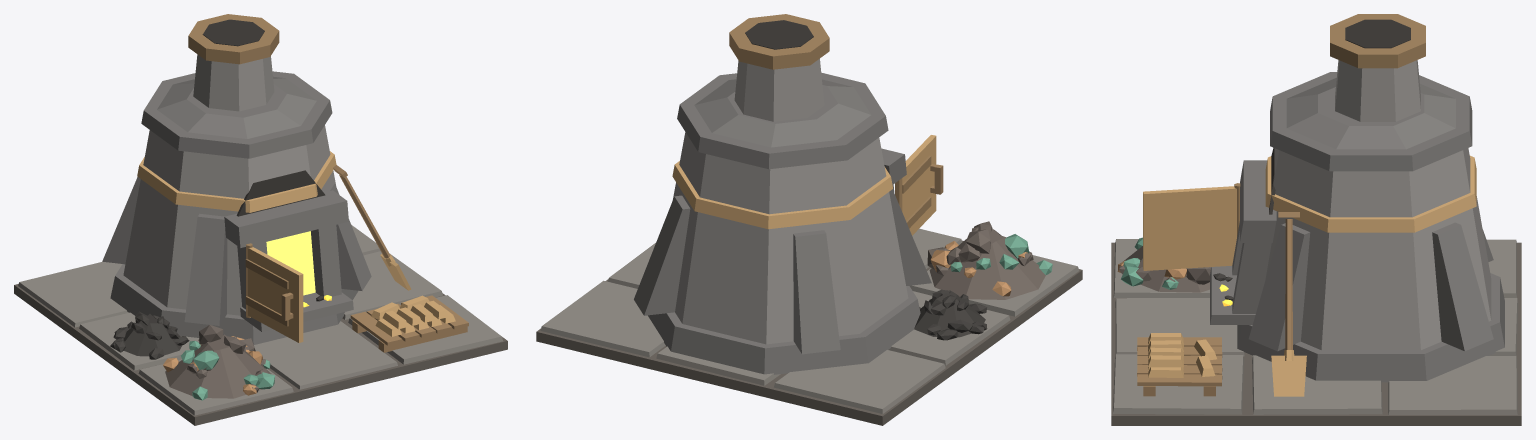
Rendered from smelter.glb.
3 renders of one model, left to right at view 1: azimuth 30°, elevation 25°; view 2: azimuth 150°, elevation 25°; view 3: azimuth 270°, elevation 25°, orthographic. The views are drawn at different scales.
Parts seen in each view (by area): view 1: floor, furnace_body, furnace_cap, mouth_frame, chimney, ore_pile, furnace_door, furnace_plinth, mouth_glow, furnace_band, charcoal_pile, ingot_pallet (+1 smaller); view 2: furnace_body, floor, furnace_cap, chimney, furnace_plinth, ore_pile, furnace_band, furnace_door, charcoal_pile, mouth_frame; view 3: furnace_body, floor, furnace_cap, chimney, furnace_door, furnace_plinth, mouth_frame, furnace_band, shovel, ingot_pallet, ore_pile, ingot_09.
Boxes of the visible parts, box(x1,y1,x2,y2) form: floor: box(14, 225, 507, 425); furnace_body: box(102, 125, 371, 325); furnace_cap: box(141, 71, 332, 158); mouth_frame: box(224, 190, 353, 331); chimney: box(188, 14, 279, 111); ore_pile: box(163, 325, 274, 400); furnace_door: box(245, 243, 303, 342); furnace_plinth: box(110, 264, 358, 344); mouth_glow: box(236, 170, 325, 295); furnace_band: box(137, 151, 336, 212); charcoal_pile: box(110, 311, 189, 359); ingot_pallet: box(350, 295, 468, 352); furnace_body: box(634, 132, 931, 354); floor: box(536, 228, 1082, 425); furnace_cap: box(677, 72, 888, 169); chimney: box(729, 14, 829, 121); furnace_plinth: box(648, 286, 920, 374); ore_pile: box(927, 221, 1052, 299); furnace_band: box(672, 161, 892, 229); furnace_door: box(895, 135, 936, 235); charcoal_pile: box(914, 289, 987, 340); mouth_frame: box(881, 148, 906, 192); furnace_body: box(1248, 148, 1493, 351); floor: box(1111, 239, 1521, 425); furnace_cap: box(1270, 72, 1472, 171); chimney: box(1330, 14, 1425, 121); furnace_door: box(1143, 183, 1240, 270); furnace_plinth: box(1237, 273, 1504, 382); mouth_frame: box(1210, 160, 1276, 324); furnace_band: box(1265, 155, 1476, 232); shovel: box(1271, 212, 1306, 396); ingot_pallet: box(1137, 337, 1222, 396); ore_pile: box(1117, 237, 1211, 292); ingot_09: box(1148, 355, 1183, 367).
Size of what is drawn, in the model's own units: 3 by 2.46 by 3.
